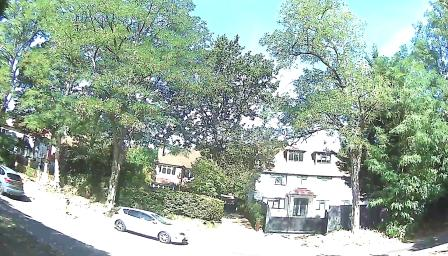Cars: (111, 201, 194, 247), (0, 164, 26, 199)
